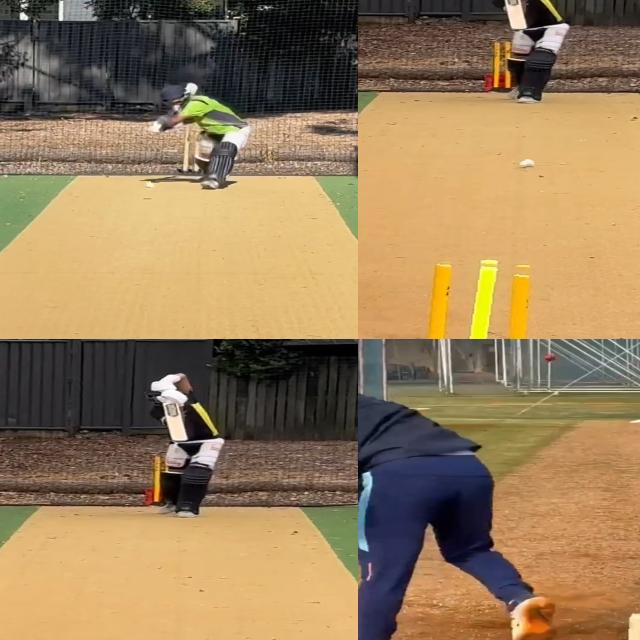Cricket ball: (518, 159, 535, 170), (543, 354, 557, 363), (145, 180, 159, 188)
Stumps: (412, 256, 553, 339)
